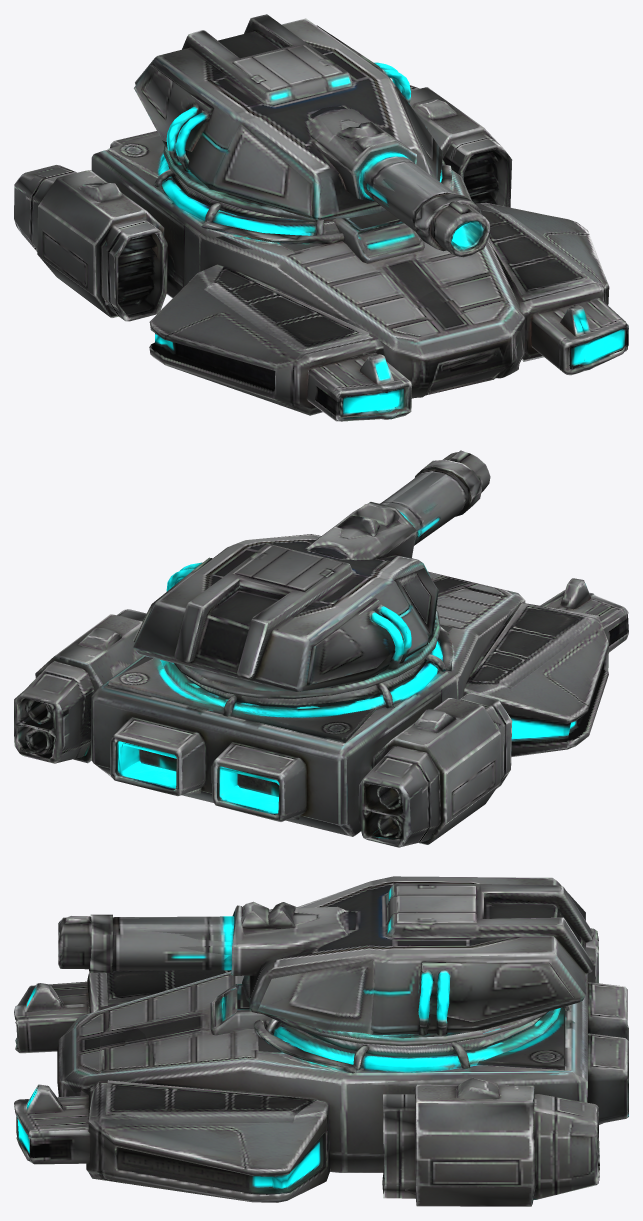
The model's file is hbm-1-smel.glb.
3 views of the same model, one above another, from view 1: azimuth 30°, elevation 25°; view 2: azimuth 150°, elevation 25°; view 3: azimuth 270°, elevation 25° (orthographic). The views are drawn at different scales.
Visible parts, largest first — view 1: Base, Turret; view 2: Base, Turret; view 3: Base, Turret.
Part boxes in pixels (bbox=[...]): Base: bbox=[14, 85, 628, 421]; Turret: bbox=[134, 14, 490, 257]; Base: bbox=[14, 571, 628, 847]; Turret: bbox=[133, 450, 490, 698]; Base: bbox=[14, 928, 628, 1206]; Turret: bbox=[58, 876, 593, 1045].
Size of the model in its own units: 2.6 by 1.17 by 3.1.
1 material, 1 textured.
